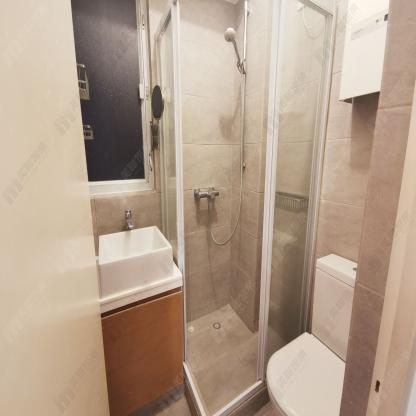Faucet: (123, 208, 135, 230)
Toilet: (264, 253, 357, 416)
Toilet Sink: (98, 225, 174, 300)
Water Cubicle: (154, 0, 336, 416)
Water Heater: (338, 0, 389, 104)
